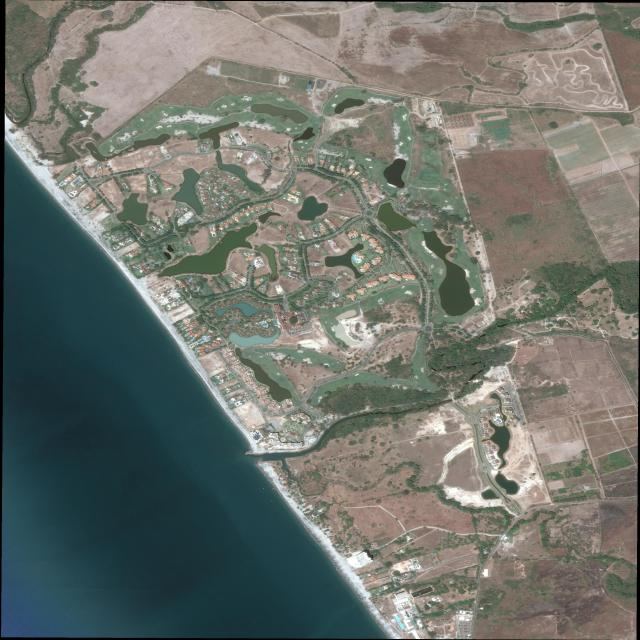ship: (269, 500, 272, 502), (261, 488, 263, 490)
